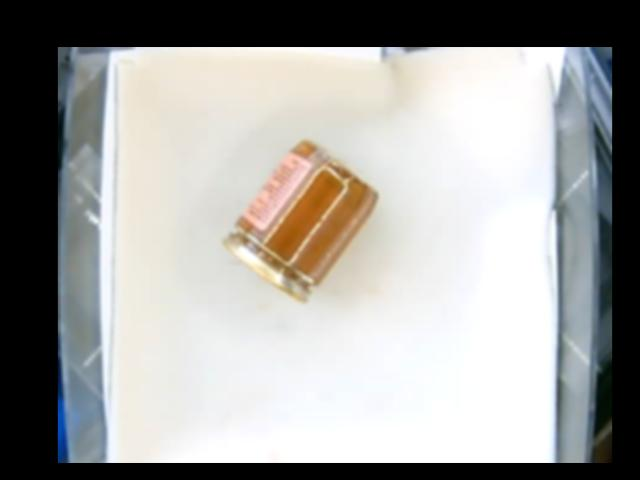Bottle: (220, 140, 377, 304)
